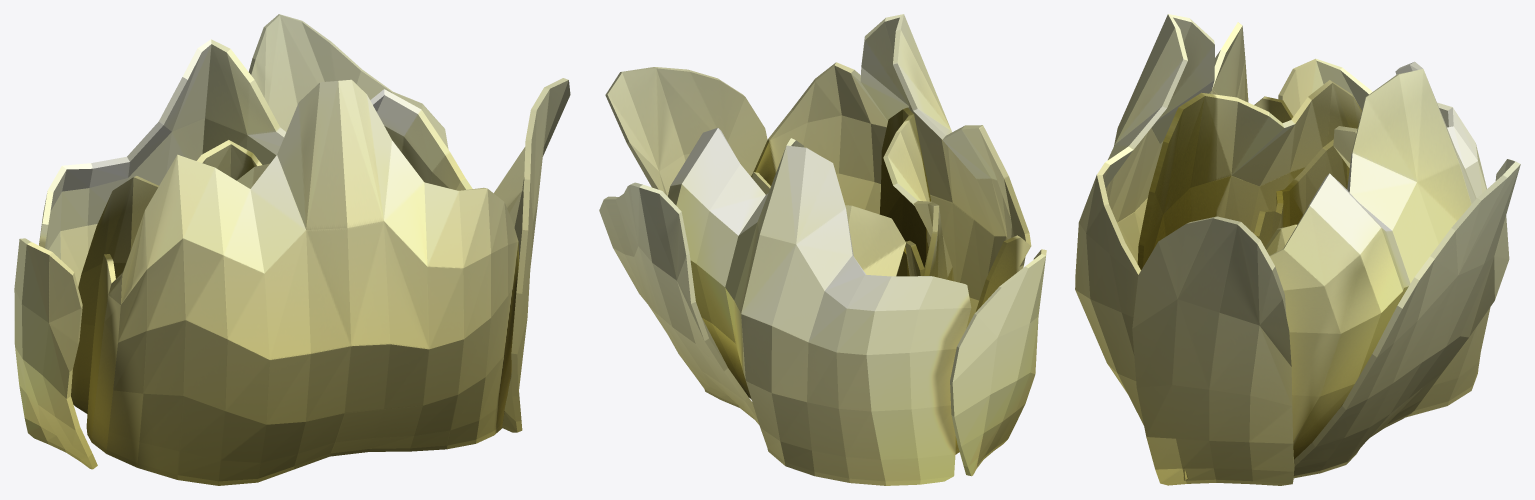
File: coral3.glb
3 renders of one model, left to right at view 1: azimuth 30°, elevation 25°; view 2: azimuth 150°, elevation 25°; view 3: azimuth 270°, elevation 25°, orthographic. The views are drawn at different scales.
Parts seen in each view (by area): view 1: Coral03; view 2: Coral03; view 3: Coral03.
Part boxes in pixels (bbox=[...]): Coral03: bbox=[14, 14, 570, 485]; Coral03: bbox=[599, 14, 1046, 485]; Coral03: bbox=[1075, 14, 1520, 485].
Size of the model in its own units: 1.05 by 0.7566 by 0.7901.
1 material, 1 textured.
